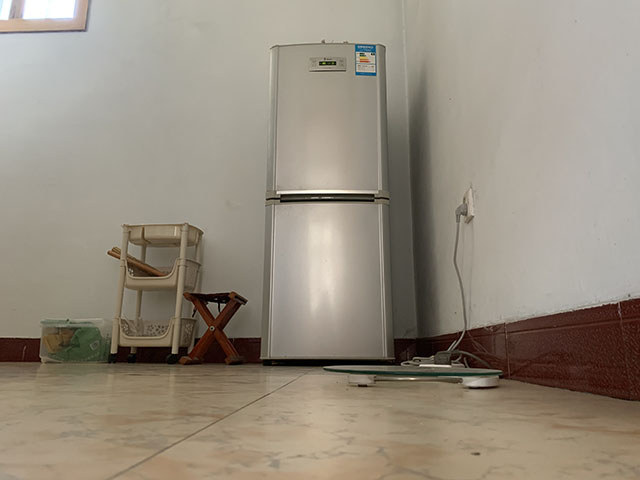stool: (176, 291, 250, 366)
wire: (399, 201, 494, 371)
